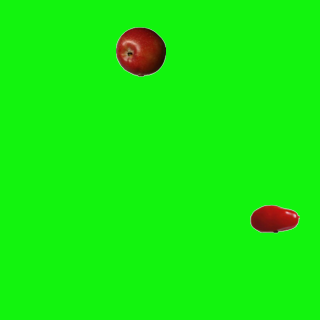Apple Braeburn: (115, 26, 165, 76)
Tomato 2: (249, 193, 299, 243)
